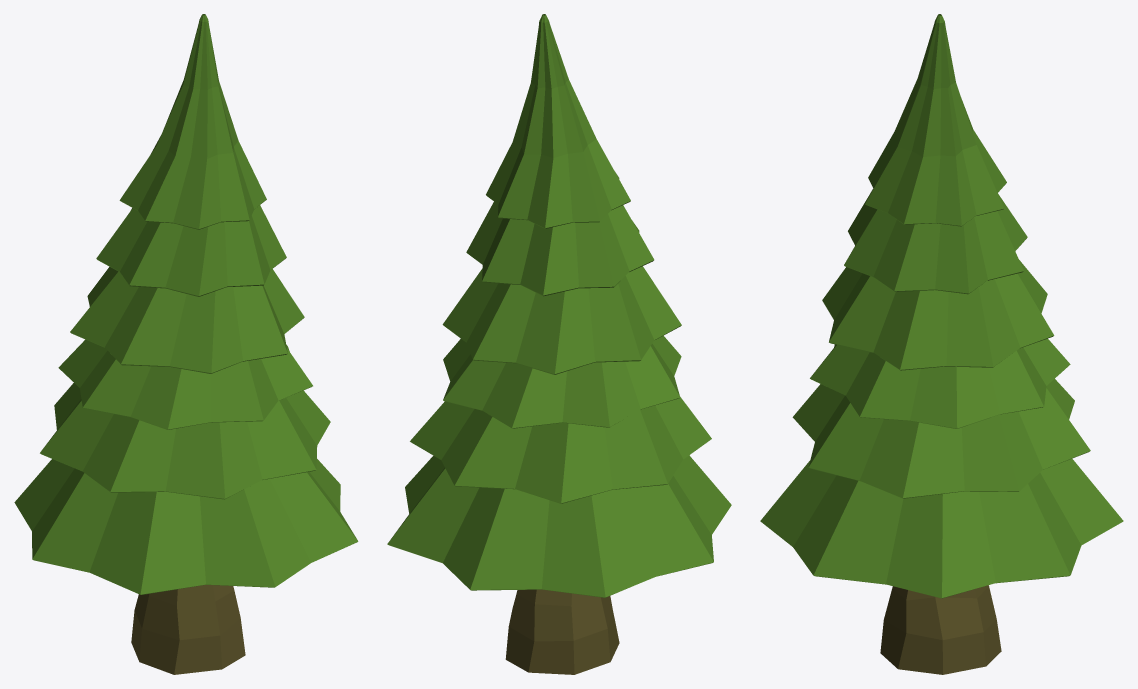
Rendered from Tree.gltf.
3 views of the same model, side by side, from view 1: azimuth 30°, elevation 25°; view 2: azimuth 150°, elevation 25°; view 3: azimuth 270°, elevation 25° (orthographic). The views are drawn at different scales.
Parts seen in each view (by area): view 1: Pine; view 2: Pine; view 3: Pine.
Part boxes in pixels (x1,y1,x2,y2): Pine: (14, 14, 358, 674); Pine: (387, 14, 731, 674); Pine: (760, 14, 1123, 674).
Size of the model in its own units: 1.91 by 3.72 by 1.91.
